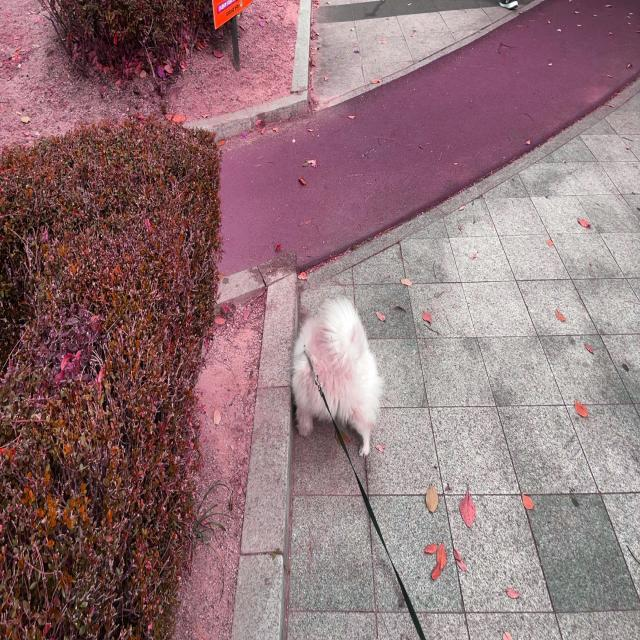Dog: (290, 296, 383, 458)
